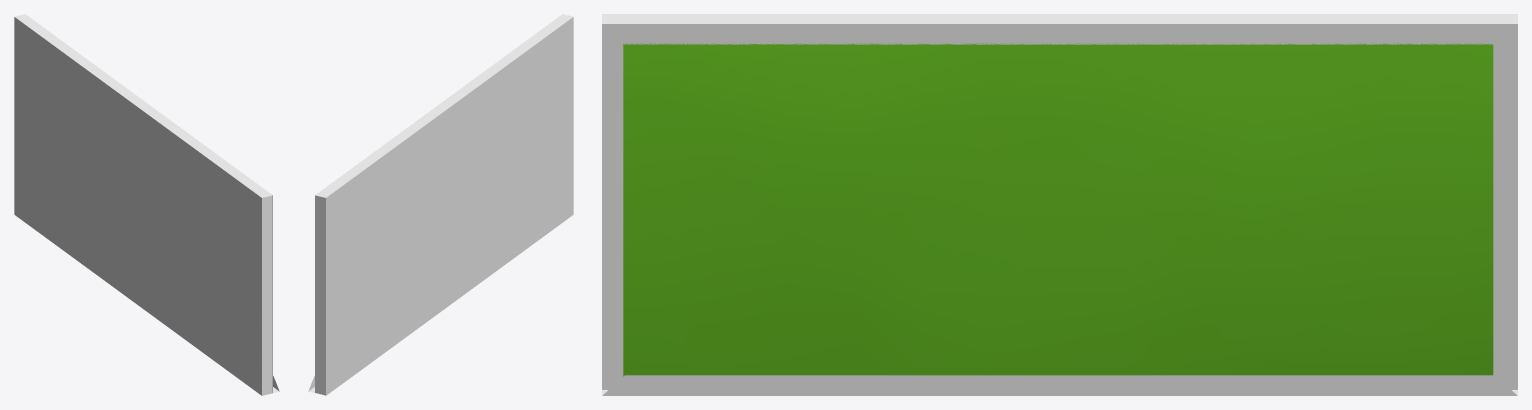
Rendered from Pizarron.fbx.
3 views of the same model, side by side, from view 1: azimuth 30°, elevation 25°; view 2: azimuth 150°, elevation 25°; view 3: azimuth 270°, elevation 25° (orthographic). The views are drawn at different scales.
Parts seen in each view (by area): view 1: Pizarrón2; view 2: Pizarrón2; view 3: Pizarrón2.
Boxes of the visible parts, x1=… form: Pizarrón2: x1=14, y1=14, x2=279, y2=395; Pizarrón2: x1=308, y1=14, x2=573, y2=395; Pizarrón2: x1=602, y1=14, x2=1517, y2=395.
Bounding box in the file's own units: 44.41 × 474 × 1075.
